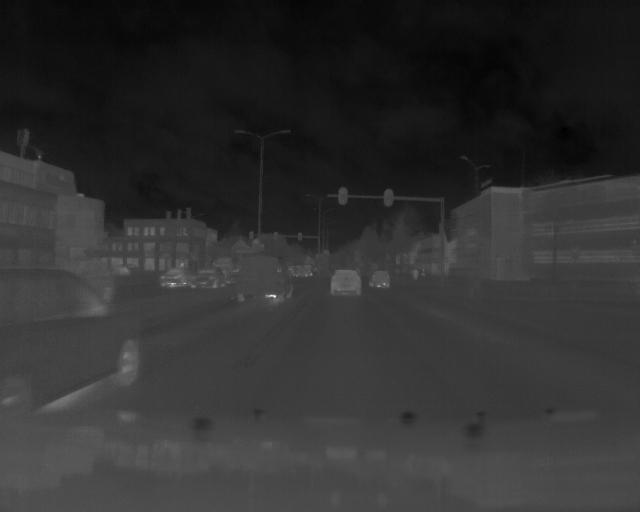car: (1, 265, 144, 408), (235, 253, 294, 305), (328, 268, 363, 295), (192, 269, 228, 291), (161, 267, 189, 287), (368, 270, 392, 290)
